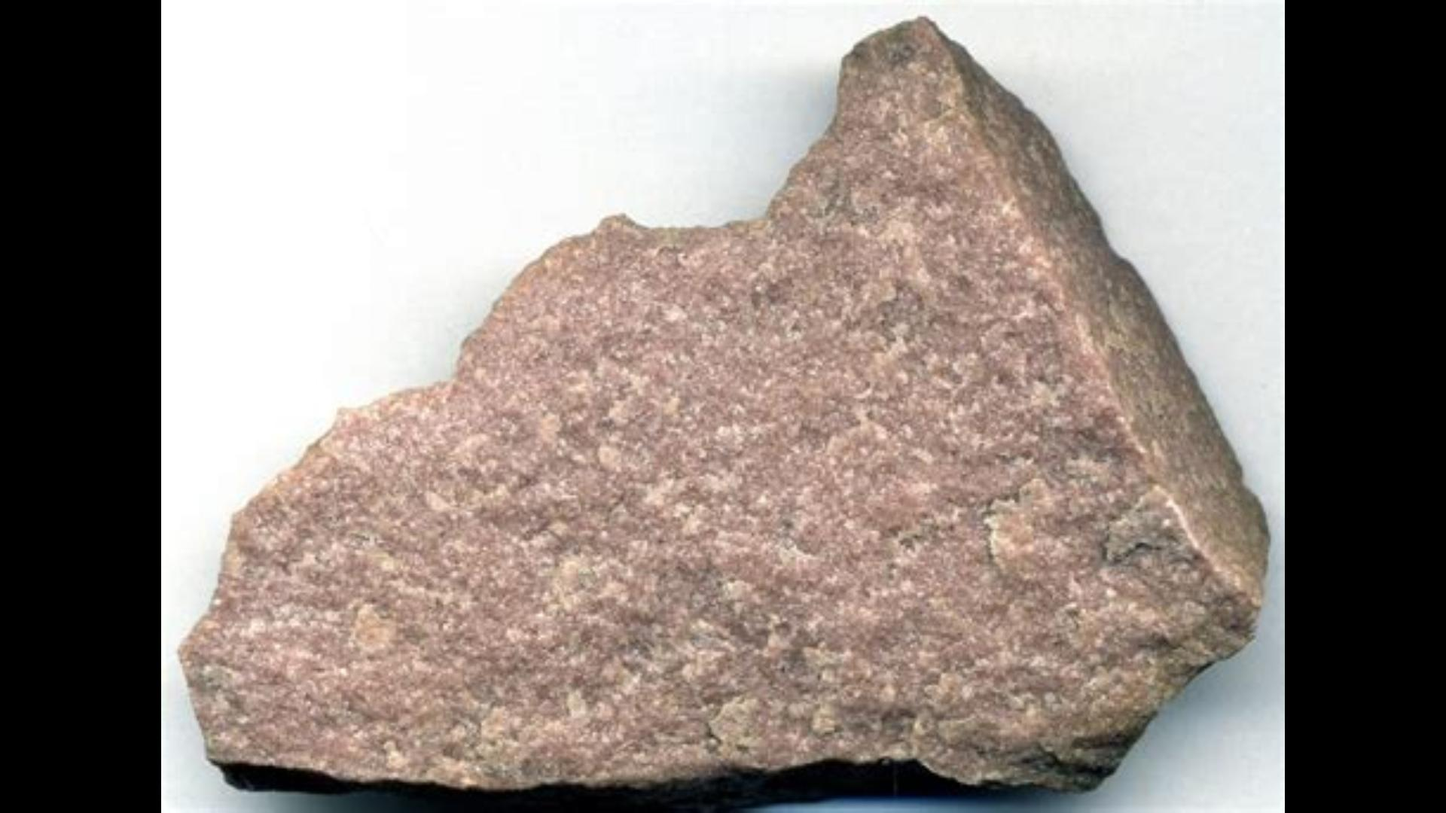rock: (183, 19, 1264, 801)
